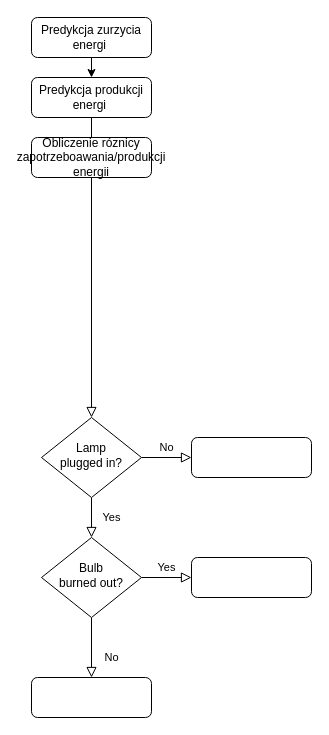
The diagram is 329 pixels wide and 735 high, and some of its shapes have lost their labels. The shapes that lost their labels are listed below. From the top down, each one's box as (x1, y1, x2, y2) in pixels, then its label:
(190, 436, 312, 478): Plug in lamp
(190, 556, 312, 598): Replace Bulb
(30, 676, 152, 718): Repair Lamp
